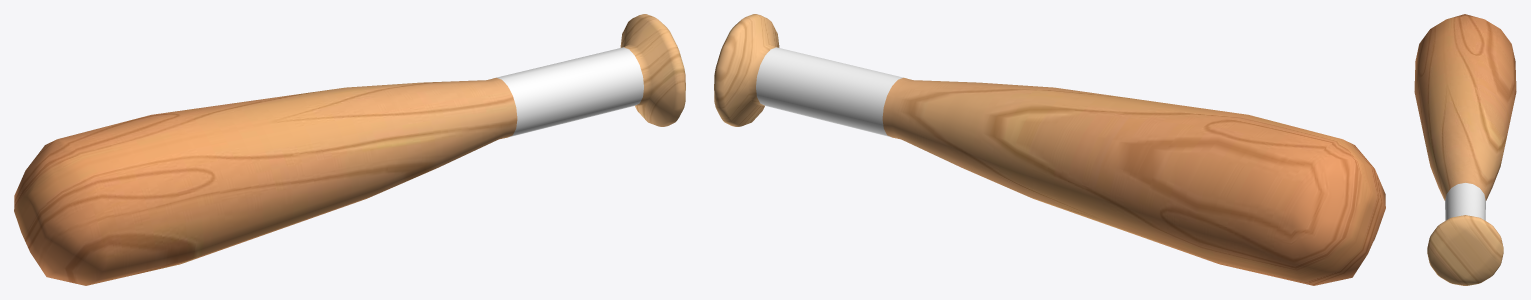
Rendered from bat.glb.
3 views of the same model, side by side, from view 1: azimuth 30°, elevation 25°; view 2: azimuth 150°, elevation 25°; view 3: azimuth 270°, elevation 25° (orthographic). The views are drawn at different scales.
Visible parts, largest first — view 1: bat; view 2: bat; view 3: bat.
Part boxes in pixels (x1,y1,x2,y2): bat: (14, 14, 685, 285); bat: (714, 14, 1385, 285); bat: (1414, 14, 1516, 285).
Size of the model in its own units: 0.6855 by 0.1432 by 0.1432.
Materials: 2 (1 with a texture image).
